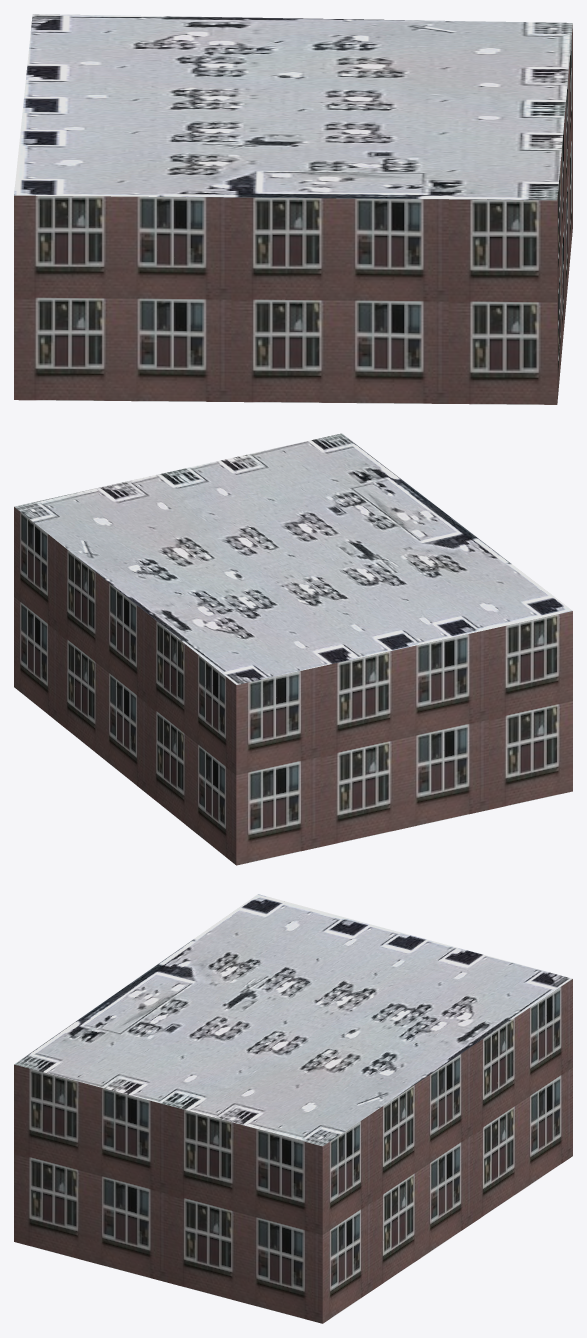
The model's file is ResTex__4592.fbx.
3 renders of one model, top to bottom at view 1: azimuth 30°, elevation 25°; view 2: azimuth 150°, elevation 25°; view 3: azimuth 270°, elevation 25°, orthographic. The views are drawn at different scales.
Parts seen in each view (by area): view 1: CityEngineMaterial_12_m, CityEngineMaterial_2_m; view 2: CityEngineMaterial_12_m, CityEngineMaterial_2_m; view 3: CityEngineMaterial_12_m, CityEngineMaterial_2_m.
Part boxes in pixels (x1,y1,x2,y2): CityEngineMaterial_12_m: (14, 25, 572, 404); CityEngineMaterial_2_m: (14, 14, 572, 200); CityEngineMaterial_12_m: (14, 507, 572, 865); CityEngineMaterial_2_m: (14, 433, 572, 684); CityEngineMaterial_12_m: (14, 979, 572, 1323); CityEngineMaterial_2_m: (14, 894, 572, 1146).
Bounding box in the file's own units: 18.31 × 6 × 17.14.
2 materials, 2 textured.
